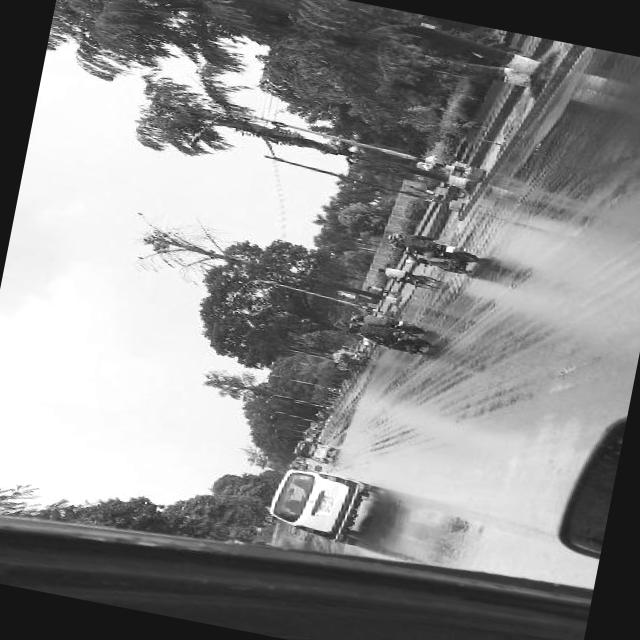car: (262, 463, 372, 544)
motorcycle: (381, 228, 479, 277), (345, 318, 433, 356), (349, 309, 426, 334), (290, 436, 339, 464), (300, 433, 322, 442), (288, 458, 305, 468), (306, 420, 326, 428)
